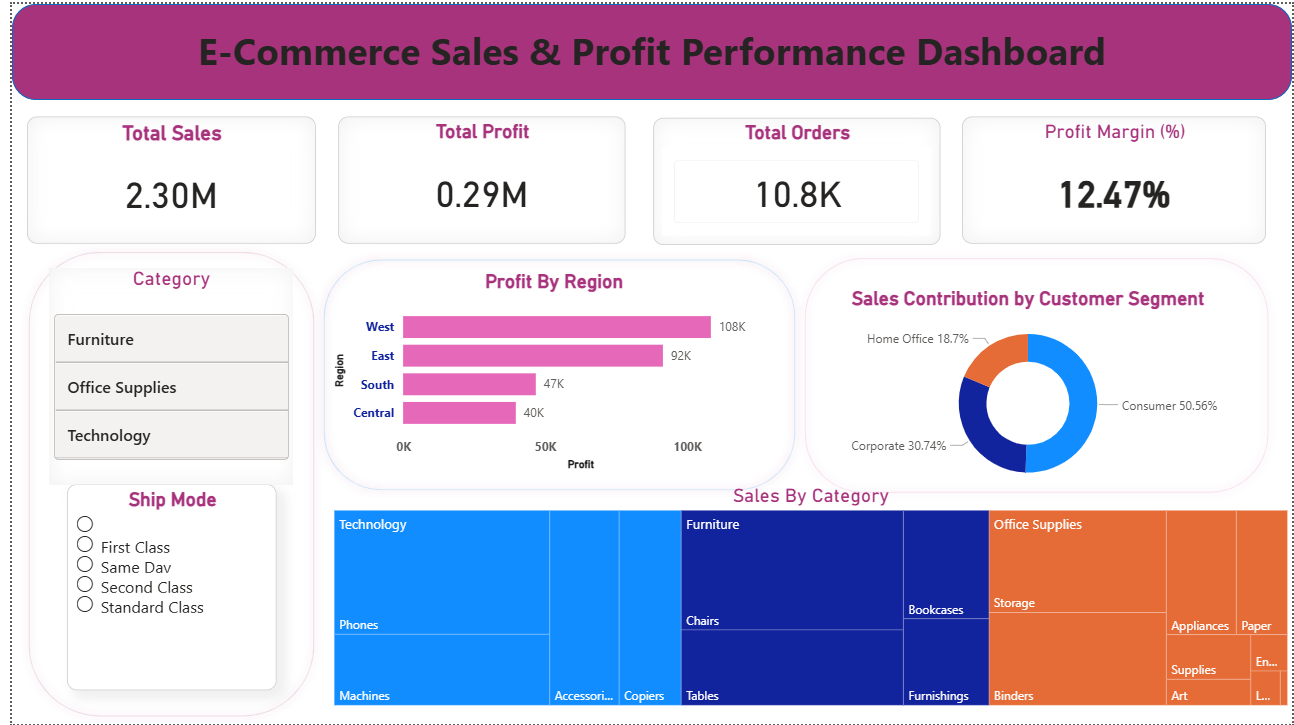

The page's visual inventory and layout, read from the dashboard file:
{"tool":"powerbi","page":{"name":"Page 1","canvas":[1280,720],"ordinal":0},"visuals":[{"type":"card","title":"Total Sales","fields":{"Values":["Sum(superstore.Sales)"]},"box":[15.5,112.1,288.5,127.5],"z":0},{"type":"card","title":"Total Profit","fields":{"Values":["Sum(superstore.Profit)"]},"box":[326.6,112.1,287.3,127.5],"z":1000},{"type":"cardVisual","title":"Total Orders","fields":{"Data":["CountNonNull(superstore.Order ID)"]},"box":[641.3,113.2,287.3,127.5],"z":2000},{"type":"card","title":"Profit Margin (%)","fields":{"Values":["superstore.Profit Margin %"]},"box":[950,112.1,304,127.5],"z":3000},{"type":"shape","title":"E-Commerce Sales & Profit Performance Dashboard","box":[0,0,1280,96],"z":4000},{"type":"textbox","box":[0,16,1280,96],"z":5000},{"type":"clusteredBarChart","title":"Profit By Region","fields":{"Category":["superstore.Region"],"Y":["Sum(superstore.Profit)"]},"box":[317.1,265.8,449.4,205],"z":6000},{"type":"shape","box":[304,247.9,487.5,246.7],"z":7000},{"type":"donutChart","title":"Sales Contribution by Customer Segment","fields":{"Y":["Sum(superstore.Sales)"],"Category":["superstore.Segment"]},"box":[808.2,283.7,414.8,209.8],"z":8000},{"type":"shape","box":[785.5,246.7,479.2,250.3],"z":9000},{"type":"shape","box":[8.3,239.6,301.6,480.4],"z":10000},{"type":"listSlicer","fields":{"Values":["superstore.Ship Mode"]},"box":[54.8,480.4,209.8,206.2],"z":11000},{"type":"treemap","title":"Sales By Category","fields":{"Group":["superstore.Category"],"Details":["superstore.Sub-Category"],"Values":["Sum(superstore.Sales)"]},"box":[317.1,480.4,963.2,226.5],"z":12000},{"type":"cardVisual","title":"Category","fields":{"Data":["Sum(superstore.Sales)"],"Rows":["superstore.Category"]},"box":[37,263.4,244.4,216.9],"z":13000}]}

Visuals, with their boxes in screenshot pixels (x1, y1, x2, y2), scaled from the page's 1280x720 canvas onto the 1294x725 screenshot:
"Total Sales" card: [left=16, top=113, right=307, bottom=241]
"Total Profit" card: [left=330, top=113, right=621, bottom=241]
"Total Orders" cardVisual: [left=648, top=114, right=939, bottom=242]
"Profit Margin (%)" card: [left=960, top=113, right=1268, bottom=241]
"E-Commerce Sales & Profit Performance Dashboard" shape: [left=0, top=0, right=1293, bottom=97]
textbox: [left=0, top=16, right=1293, bottom=113]
"Profit By Region" clusteredBarChart: [left=321, top=268, right=775, bottom=474]
shape: [left=307, top=250, right=800, bottom=498]
"Sales Contribution by Customer Segment" donutChart: [left=817, top=286, right=1236, bottom=497]
shape: [left=794, top=248, right=1279, bottom=500]
shape: [left=8, top=241, right=313, bottom=724]
listSlicer - superstore.Ship Mode: [left=55, top=484, right=267, bottom=691]
"Sales By Category" treemap: [left=321, top=484, right=1293, bottom=712]
"Category" cardVisual: [left=37, top=265, right=284, bottom=484]
